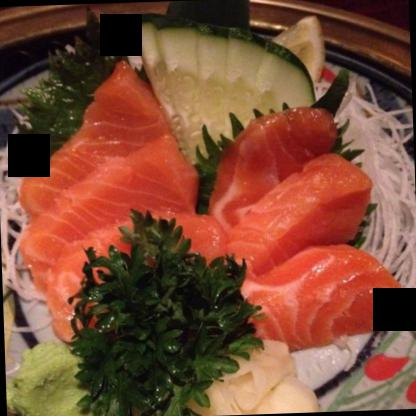salmon: (18, 129, 202, 286), (15, 63, 174, 220), (210, 104, 340, 244), (235, 240, 398, 351), (224, 159, 372, 274)
